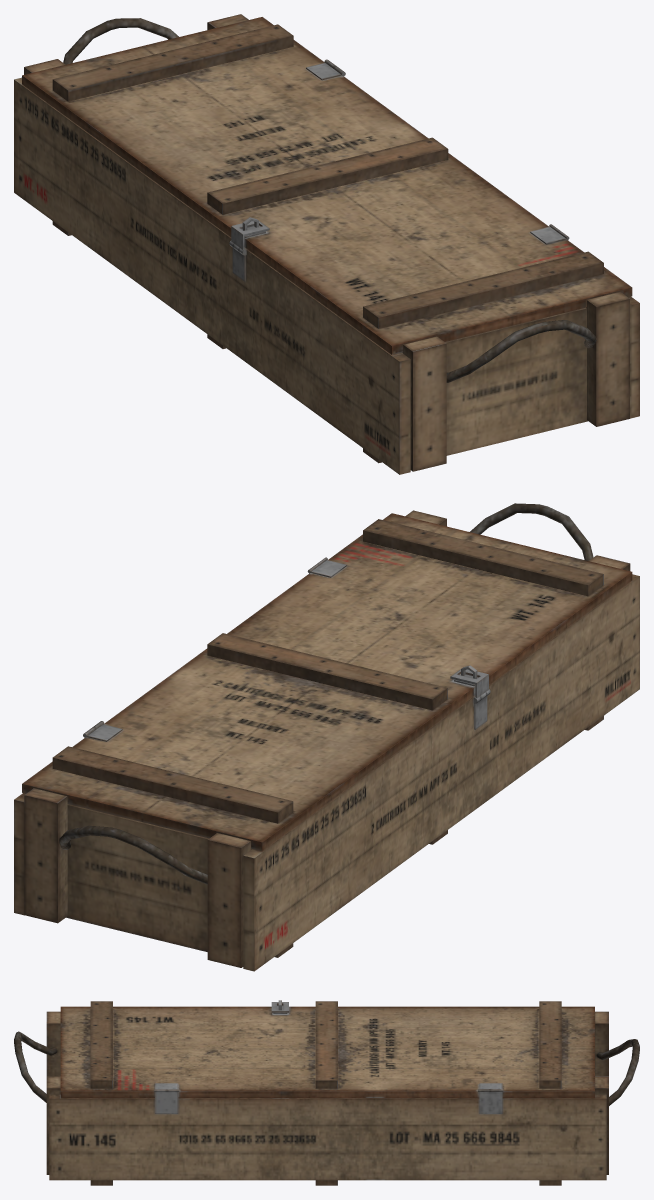
Rendered from rifle-box--low-poly-aaa6d5.glb.
3 views of the same model, one above another, from view 1: azimuth 30°, elevation 25°; view 2: azimuth 150°, elevation 25°; view 3: azimuth 270°, elevation 25° (orthographic). The views are drawn at different scales.
Parts seen in each view (by area): view 1: PropMesh; view 2: PropMesh; view 3: PropMesh.
Boxes of the visible parts, x1,y1,x2,y2 form: PropMesh: (14,14,639,474); PropMesh: (14,503,639,971); PropMesh: (14,1000,639,1185).
Bounding box in the file's own units: 0.6584 × 0.3815 × 2.
1 material, 1 textured.
